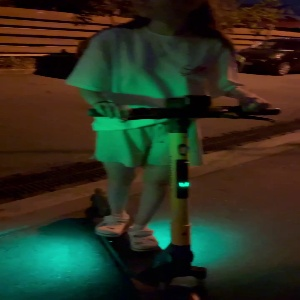human on a scooter: (67, 1, 282, 300)
